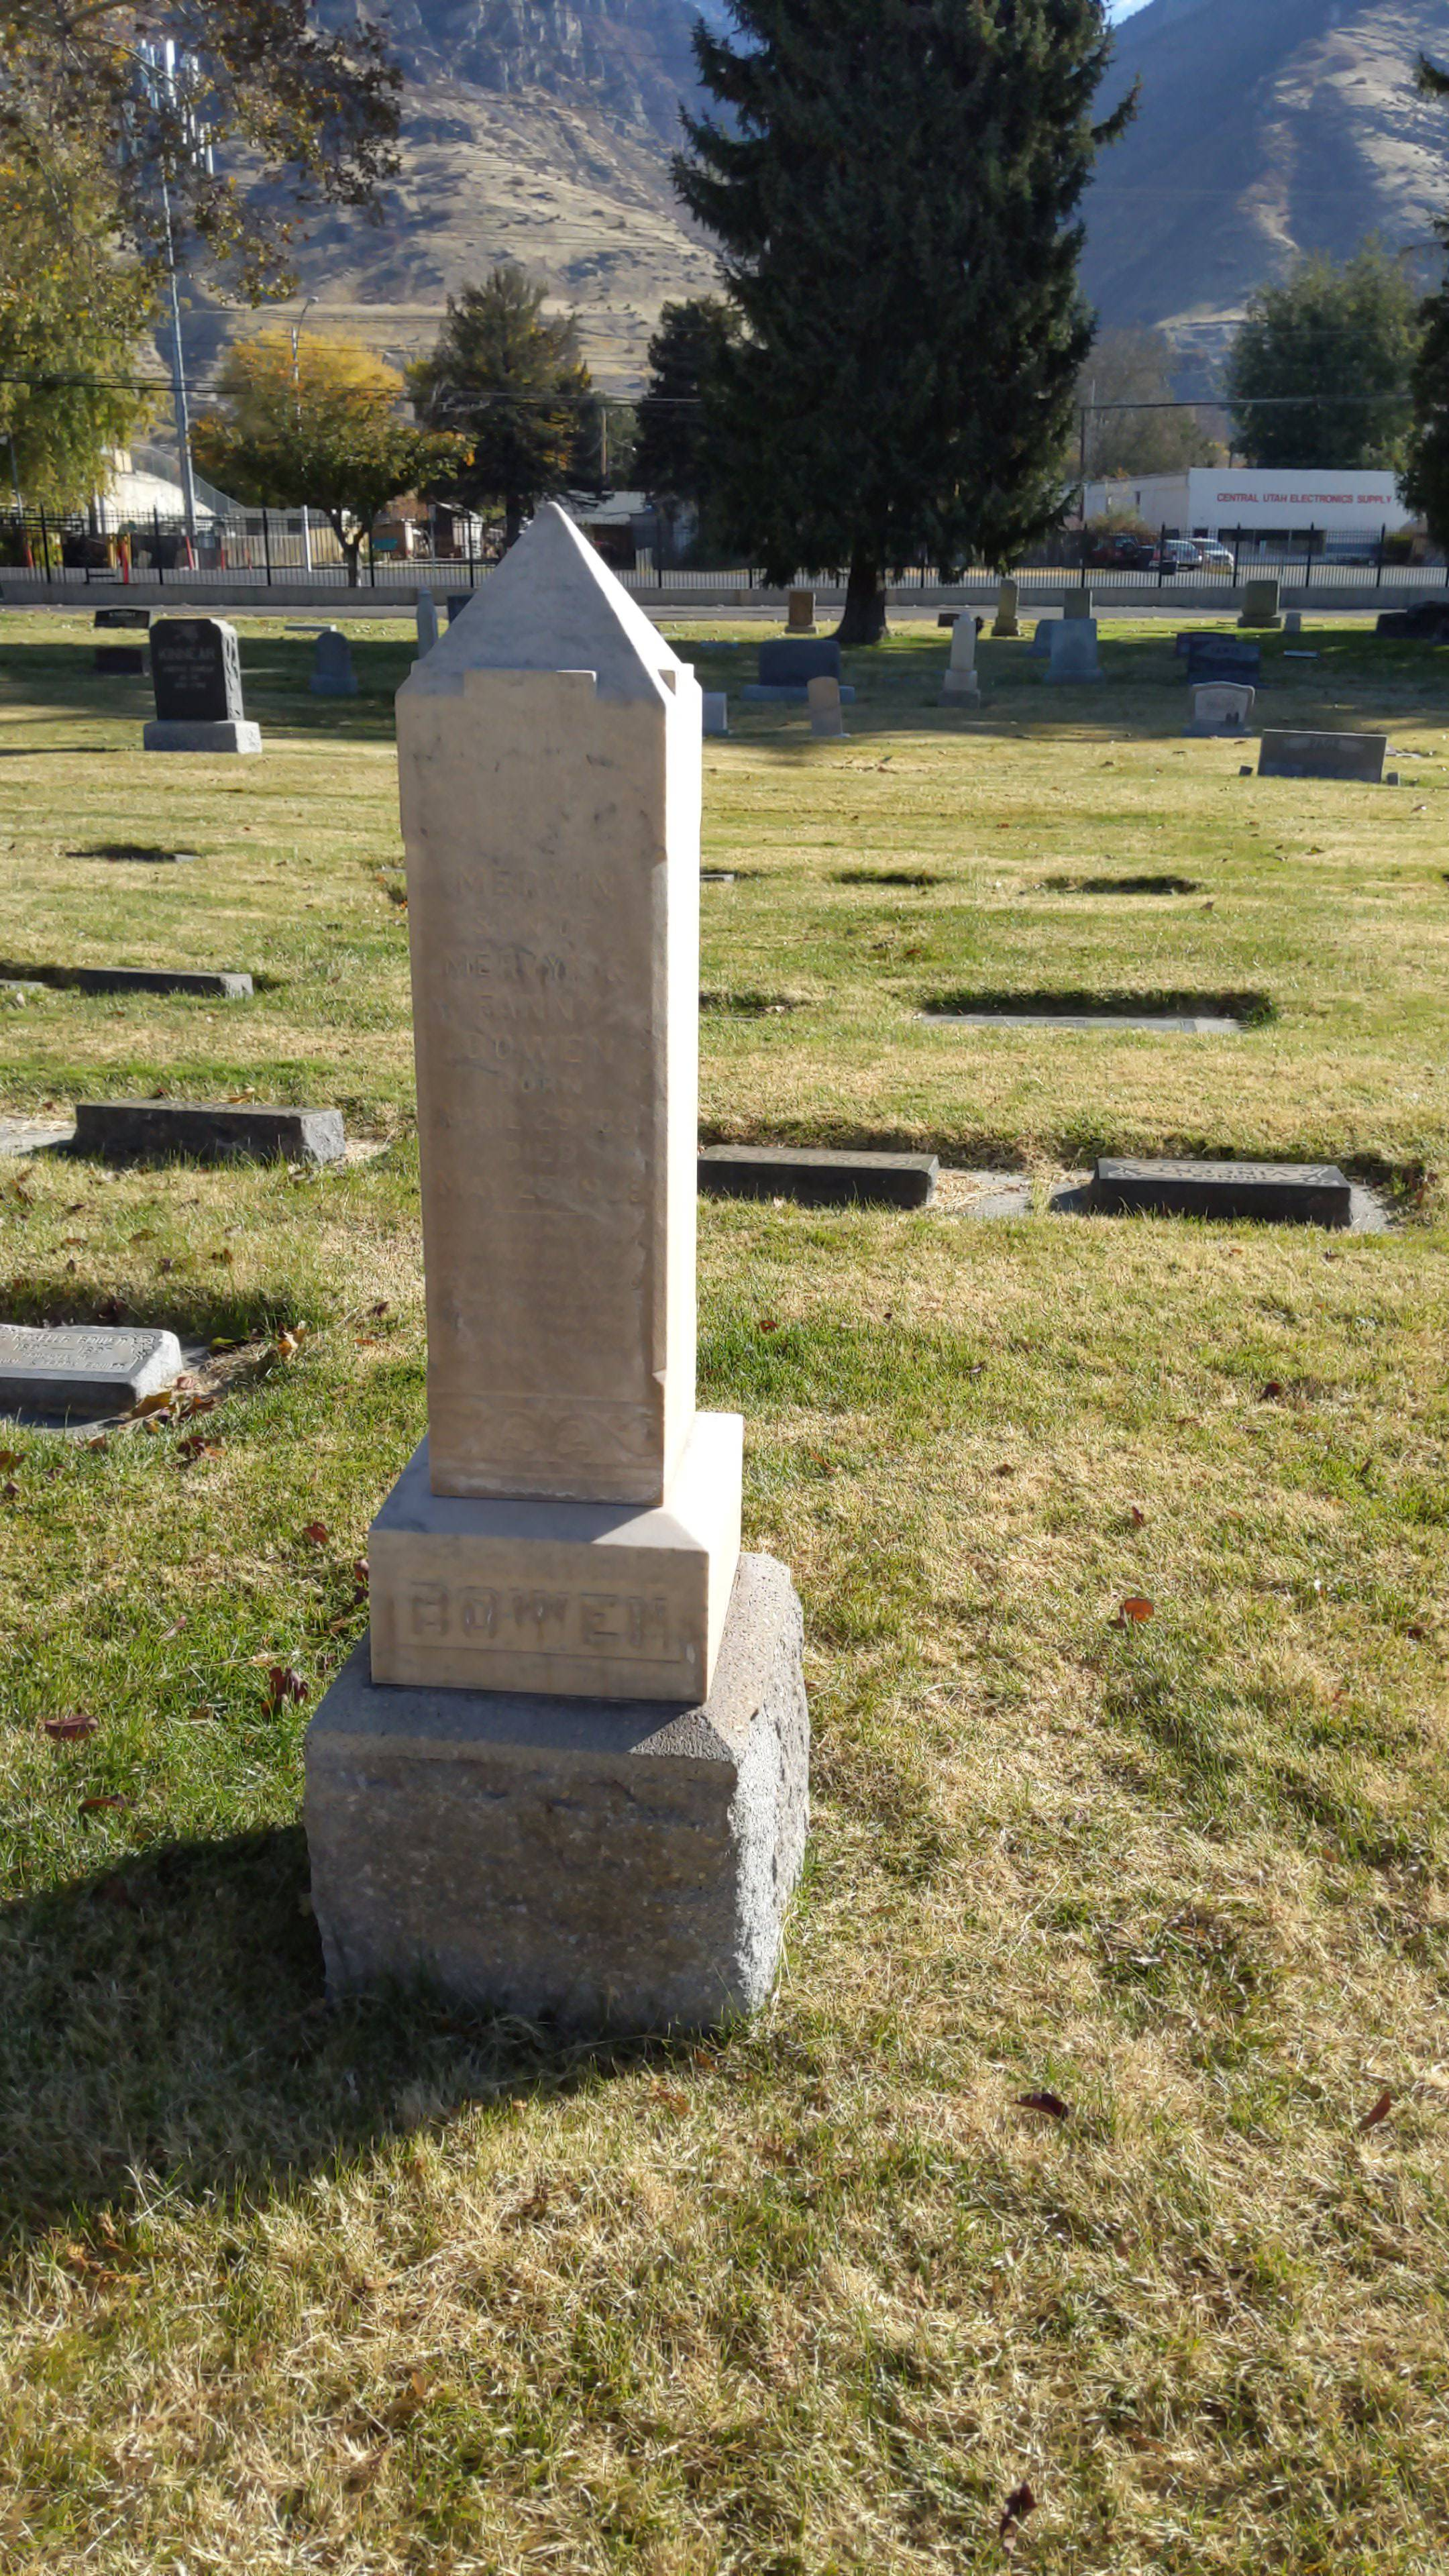obelisk: (364, 508, 747, 1697)
